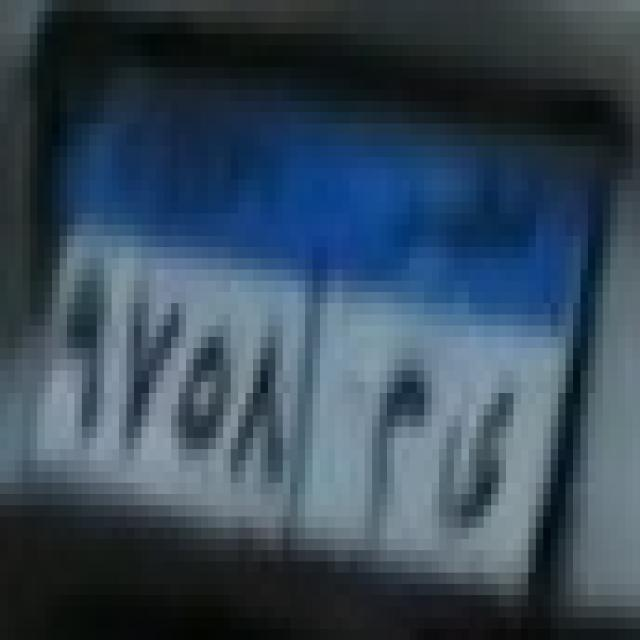5: (176, 314, 235, 469)
7: (119, 282, 184, 451)
8: (229, 323, 294, 494)
9: (59, 256, 119, 442)
Meem: (366, 348, 426, 523)
Yeeh: (437, 368, 526, 538)
